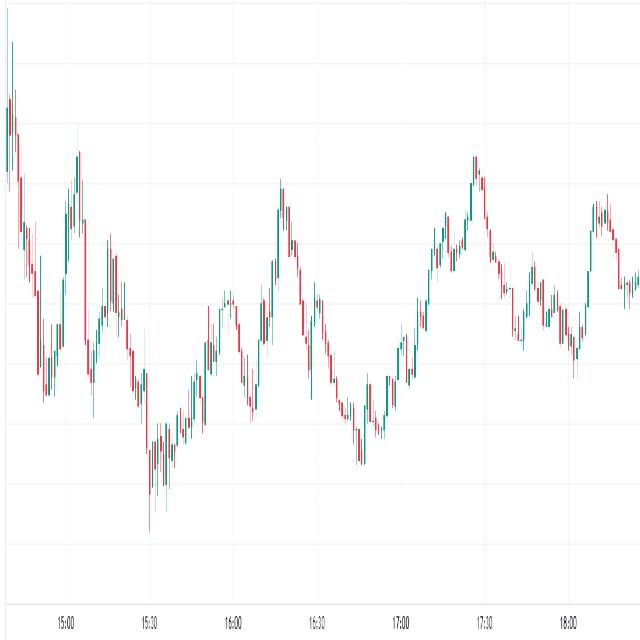Channel-up: (355, 164, 465, 515), (143, 266, 235, 581)
Descending-Triangle: (0, 2, 188, 407), (253, 88, 351, 377)
Falling-Wedge: (444, 102, 585, 389)
